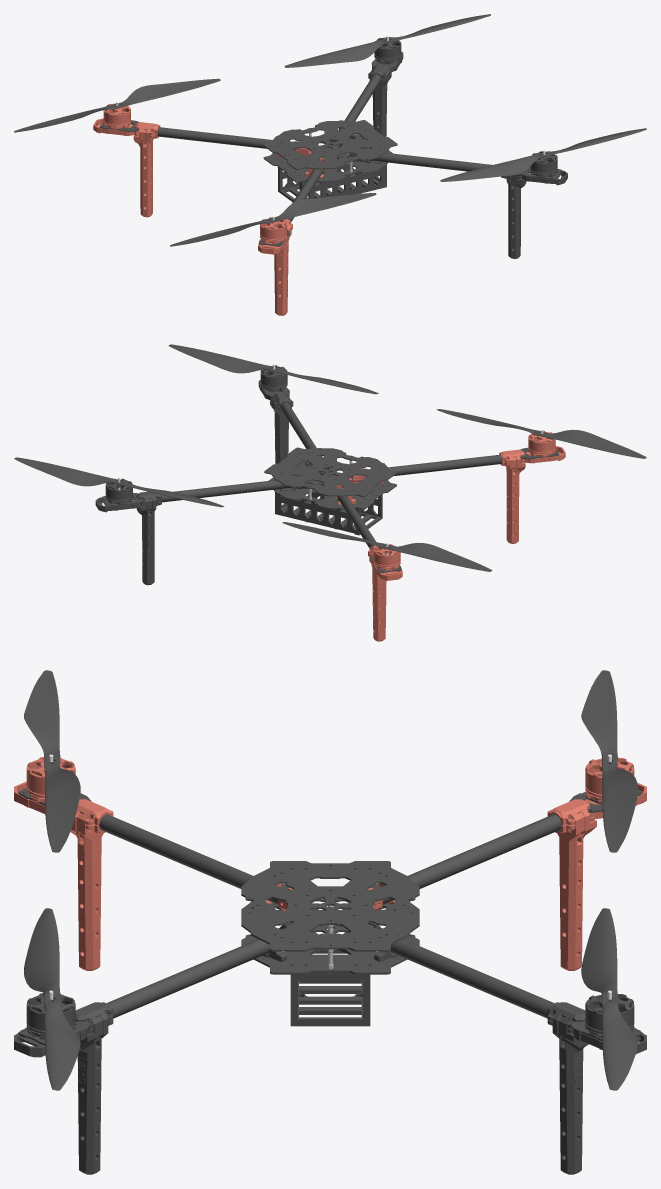
Rendered from T650_drone.fbx.
3 renders of one model, top to bottom at view 1: azimuth 30°, elevation 25°; view 2: azimuth 150°, elevation 25°; view 3: azimuth 270°, elevation 25°, orthographic. The views are drawn at different scales.
Parts seen in each view (by area): view 1: Body1.030, Body1.009, Body20.001, Body20, Body21.001, Body21, Body1, Body1.020, Body1.007, Body1.019, Body1.008, Body1.021 (+5 smaller); view 2: Body1.030, Body1.009, Body21.001, Body21, Body20, Body20.001, Body1, Body1.021, Body1.018, Body1.005, Body1.006, Body1.020 (+9 smaller); view 3: Body1.030, Body21, Body20, Body20.001, Body21.001, Body1.009, Body1, Body1.020, Body1.018, Body1.021, Body1.019, Body1.006 (+11 smaller).
Part boxes in pixels (x1=…): Body1.030: x1=263, y1=120, x2=397, y2=169; Body1.009: x1=278, y1=157, x2=386, y2=201; Body20.001: x1=170, y1=193, x2=376, y2=246; Body20: x1=14, y1=78, x2=220, y2=132; Body21.001: x1=440, y1=128, x2=646, y2=181; Body21: x1=284, y1=14, x2=490, y2=67; Body1: x1=263, y1=134, x2=392, y2=182; Body1.020: x1=133, y1=128, x2=153, y2=217; Body1.007: x1=157, y1=127, x2=310, y2=151; Body1.019: x1=506, y1=174, x2=526, y2=258; Body1.008: x1=369, y1=153, x2=491, y2=171; Body1.021: x1=274, y1=224, x2=291, y2=315; Body1.030: x1=264, y1=447, x2=396, y2=496; Body1.009: x1=275, y1=484, x2=382, y2=535; Body21.001: x1=168, y1=344, x2=378, y2=394; Body21: x1=14, y1=457, x2=224, y2=507; Body20: x1=282, y1=522, x2=492, y2=571; Body20.001: x1=436, y1=409, x2=646, y2=458; Body1: x1=268, y1=461, x2=396, y2=509; Body1.021: x1=506, y1=456, x2=525, y2=543; Body1.018: x1=136, y1=497, x2=156, y2=585; Body1.005: x1=351, y1=454, x2=501, y2=479; Body1.006: x1=161, y1=480, x2=291, y2=502; Body1.020: x1=369, y1=550, x2=386, y2=641; Body1.030: x1=241, y1=861, x2=419, y2=951; Body21: x1=581, y1=908, x2=638, y2=1090; Body20: x1=581, y1=670, x2=638, y2=852; Body20.001: x1=24, y1=670, x2=80, y2=852; Body21.001: x1=24, y1=908, x2=80, y2=1090; Body1.009: x1=276, y1=907, x2=384, y2=1026; Body1: x1=241, y1=884, x2=419, y2=974; Body1.020: x1=557, y1=809, x2=596, y2=970; Body1.018: x1=552, y1=1013, x2=588, y2=1174; Body1.021: x1=70, y1=810, x2=103, y2=970; Body1.019: x1=77, y1=1013, x2=108, y2=1174; Body1.006: x1=375, y1=928, x2=585, y2=1026.
Size of the model in its own units: 93.25 by 20.87 by 59.61.
